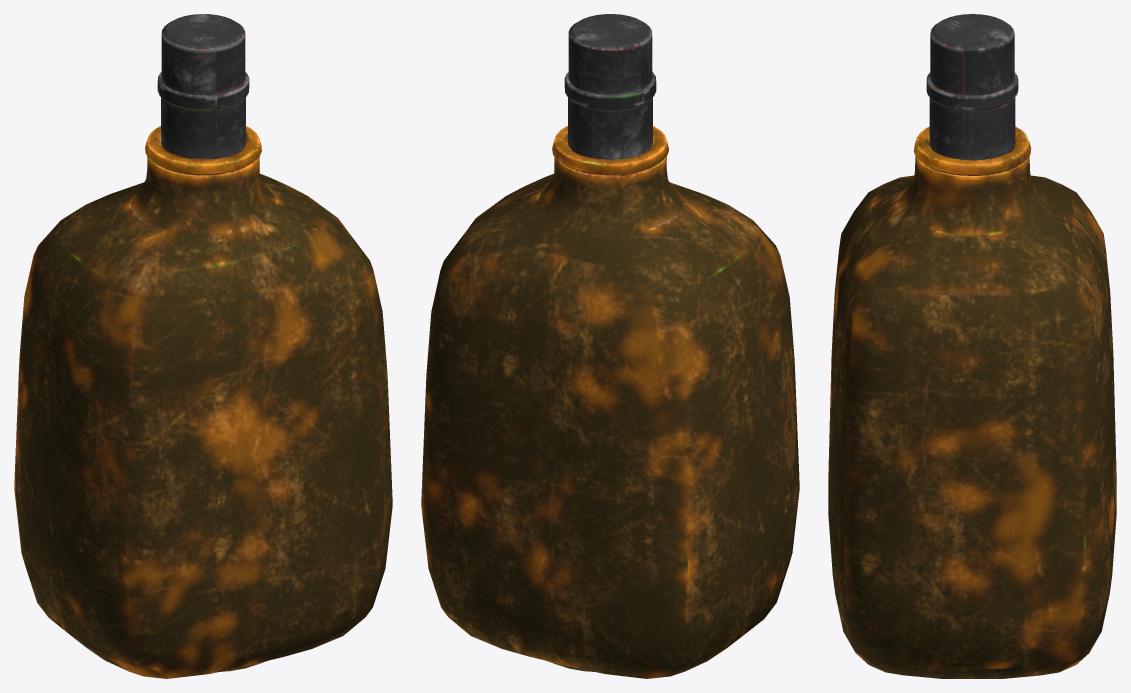
The model's file is Whisky 2 .fbx.
The picture shows the model from 3 angles, left to right: view 1: azimuth 30°, elevation 25°; view 2: azimuth 150°, elevation 25°; view 3: azimuth 270°, elevation 25°; orthographic projection.
Parts seen in each view (by area): view 1: Cube.001; view 2: Cube.001; view 3: Cube.001.
Boxes of the visible parts, x1=… form: Cube.001: x1=14, y1=14, x2=392, y2=678; Cube.001: x1=421, y1=14, x2=799, y2=678; Cube.001: x1=828, y1=14, x2=1116, y2=678.
Bounding box in the file's own units: 16.67 × 31.97 × 13.64.
